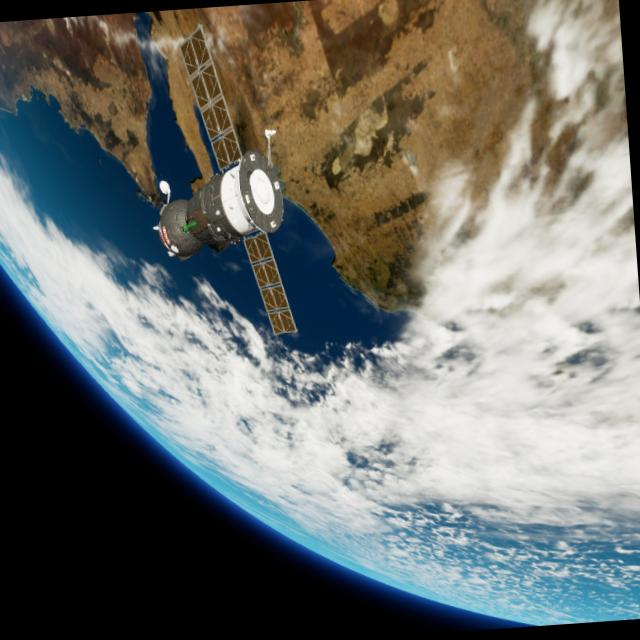Satellites revolving around earth: (137, 16, 300, 347)
